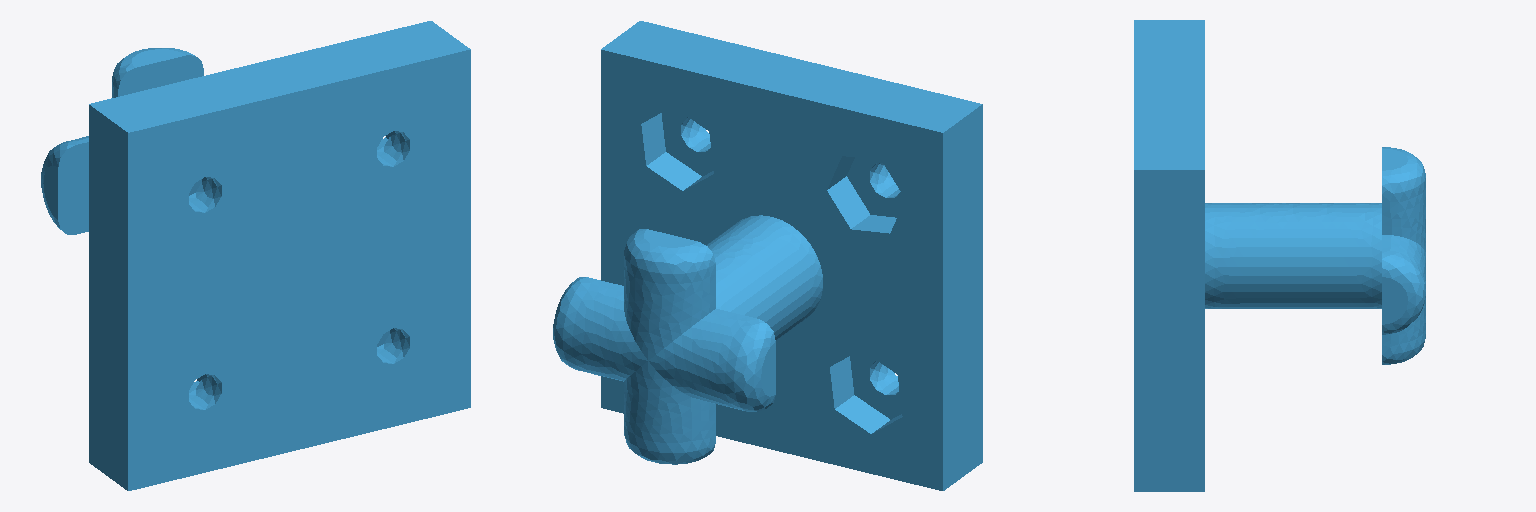
URDF robot description (cross):
<?xml version="1.0"?>

<robot name="cross">
	<link name="world">
        </link>

        <joint name="world_to_indenter" type="prismatic">
                <parent link="world"/>
                <child link="indenter"/>
                <origin rpy="0.0 0.0 0.0" xyz="0.0 0.0013 0.0"/>
                <axis xyz="0 1 0"/>
                <dynamics damping="0.0" friction="0.0"/>
                <limit lower="0.0" upper="0.1" velocity="1e9" effort="1e9"/>
        </joint>

	<link name="indenter">
		<visual>
			<origin rpy="0.0 0.0 0.0" xyz="0.0 0.0 0.0"/>
			<geometry>
				<mesh filename="../meshes/cross_0.2.stl" scale="0.001 0.001 0.001"/>
			</geometry>
		</visual>
		<collision>
			<origin rpy="0.0 0.0 0.0" xyz="0.0 0.0 0.0"/>
			<geometry>
				<mesh filename="../meshes/cross_0.2.stl" scale="0.001 0.001 0.001"/>
			</geometry>
		</collision>
		<!-- <inertial>
			<origin rpy="0.0 0.0 0.0" xyz="0.0 -14.0636e-3 0.0"/>
			<mass value="0.00075752"/>
			<inertia ixx="2.03201e-8" iyy="1.24370e-8" izz="1.90589e-8" ixy="0.0" ixz="-1.96737e-15" iyz="0.0"/>
		</inertial> -->
	</link>
</robot>

--- What the picture shows (computed from the rendered views, not written in the file) ---
The picture shows the robot from 3 angles, left to right: view 1: azimuth 30°, elevation 25°; view 2: azimuth 150°, elevation 25°; view 3: azimuth 270°, elevation 25°; orthographic projection.
Robot: cross — 2 links, 1 joints (1 prismatic); root link world; default pose: every joint at zero.
Visible links, largest first — view 1: indenter; view 2: indenter; view 3: indenter.
Boxes of the visible links, x1,y1,x2,y2 form: indenter: (41, 21, 470, 490); indenter: (553, 21, 982, 490); indenter: (1134, 20, 1425, 491).
Size in the robot's own frame: 0.02 by 0.0165 by 0.02 metres.
1 mesh visuals loaded from 1 distinct referenced files (1 ASCII STL).
